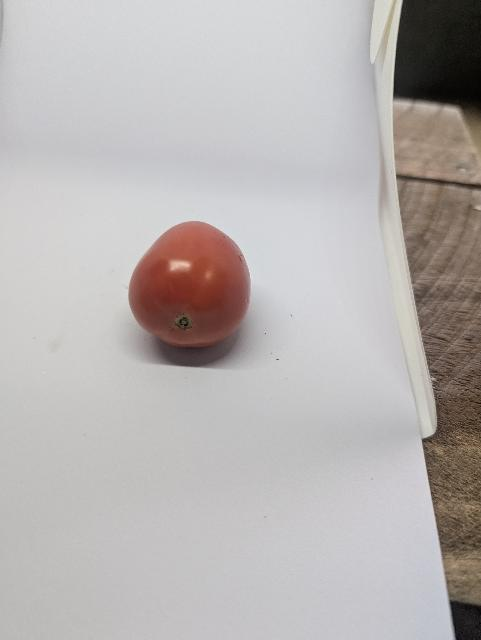red: (121, 211, 263, 370)
